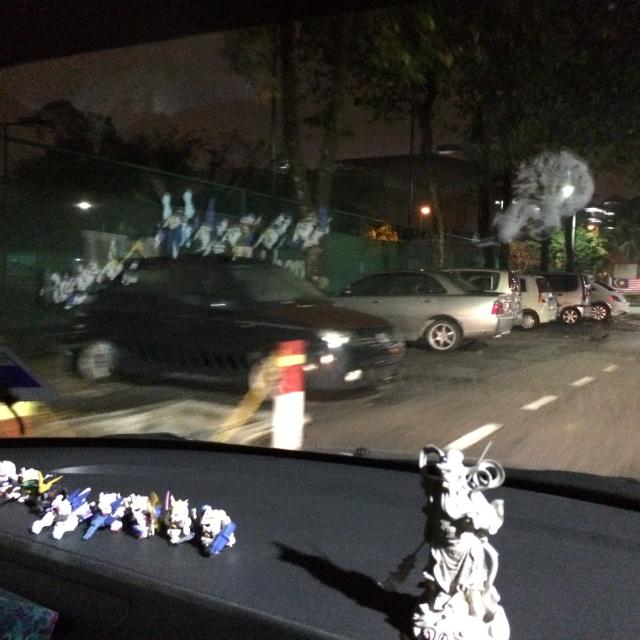Car: (71, 249, 406, 403), (327, 262, 518, 358)
